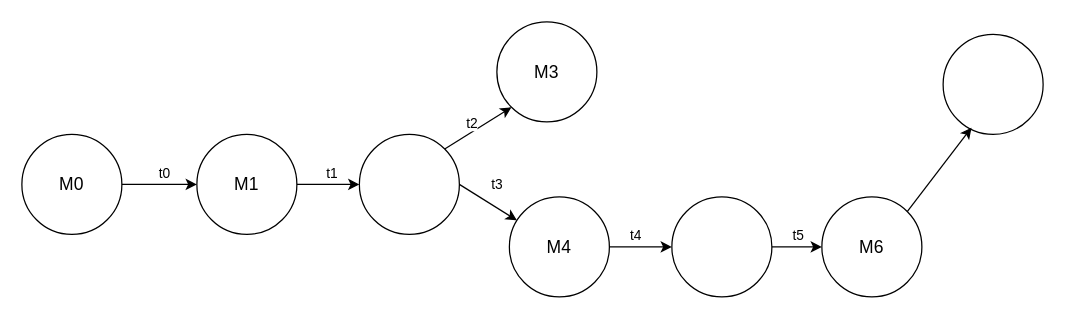
The diagram is 1065 pixels wide and 319 high, and some of its shapes have lost their labels. Here are the shapes that lost their labels. From the top down, the centre of each, then its label:
the point at 992,83: M7
the point at 408,183: M2
the point at 721,246: M5
